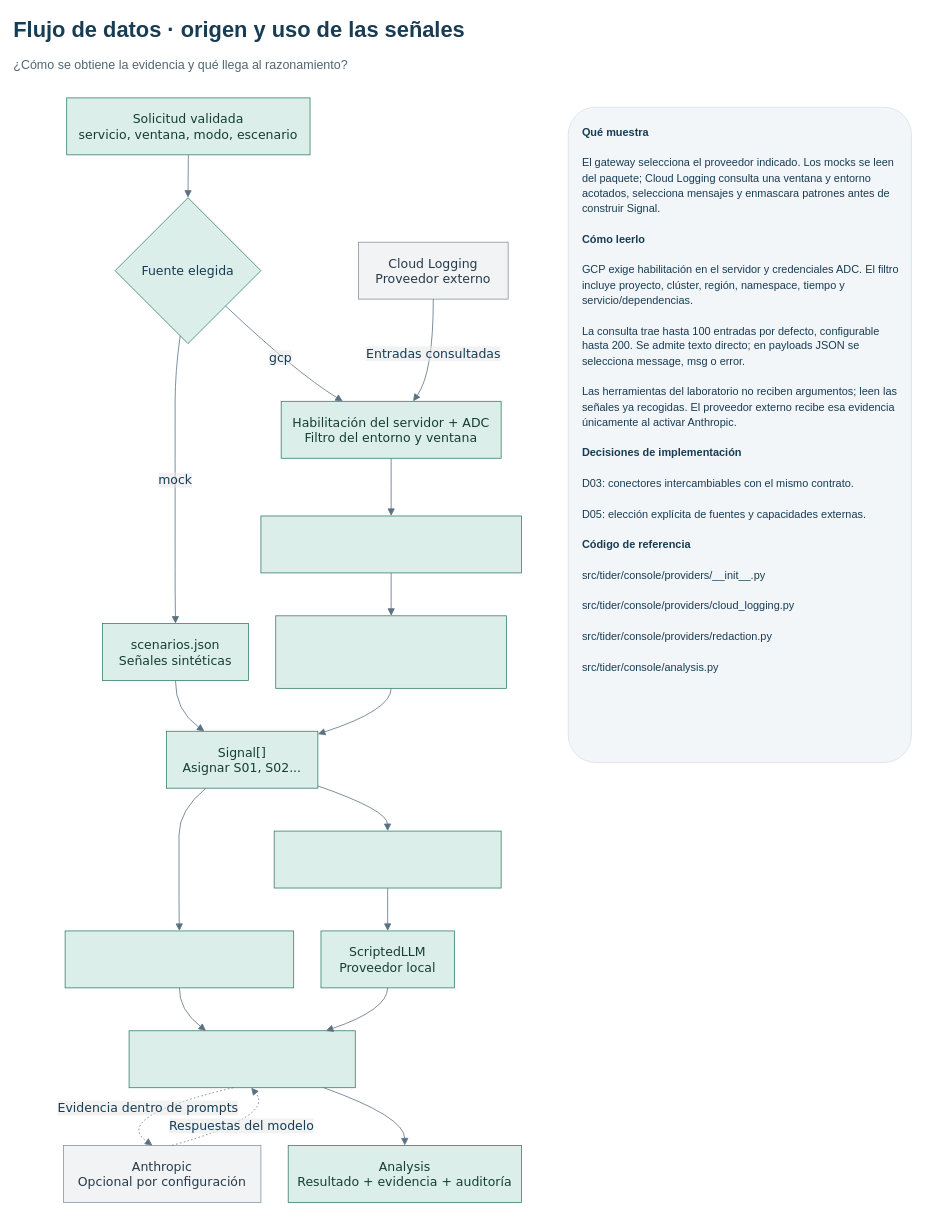
Some shapes in this 937 by 1216 pixel diagram are drawn without their labels. The box of each missing label's shape, as (x1, y1, x2, y2) in pixels:
Baseline: reglas sobre señales No usa la etiqueta del escenario: (273, 830, 501, 888)
Extraer texto o message / msg / error Máximo 100 entradas por defecto: (260, 515, 521, 573)
Investigador + juez Hipótesis, evidencia y veredicto: (128, 1030, 355, 1088)
lab_log / lab_metric / lab_trace Herramientas sin argumentos: (64, 930, 294, 988)
sanitize Patrones de credenciales y email Truncar a 600 caracteres: (275, 615, 507, 688)
